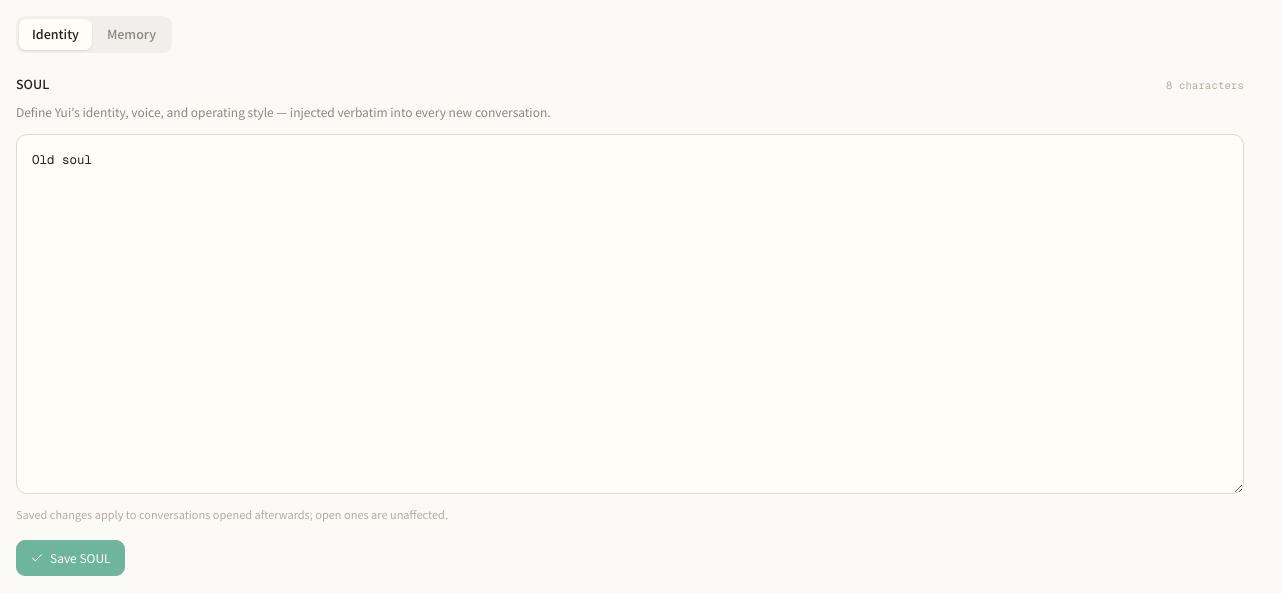
PersonaPanel › switches between the Identity and Memory tabs
Expected: the text box labelled "SOUL" is shown, [16,134,1244,494]
Expected: the text "Global" is not shown
Click the tab "Memory".
click(131, 34)  # box [94,19,169,50]
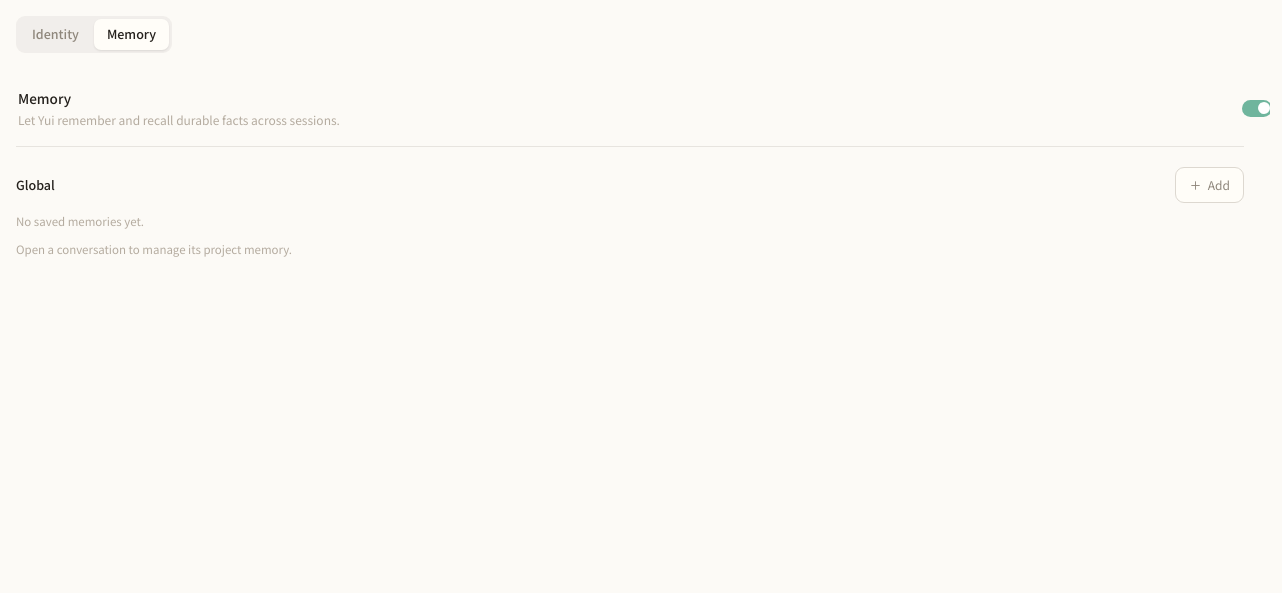
Expected: the text "Global" is shown, [16,176,55,195]
Expected: the label labelled "SOUL" is gone
